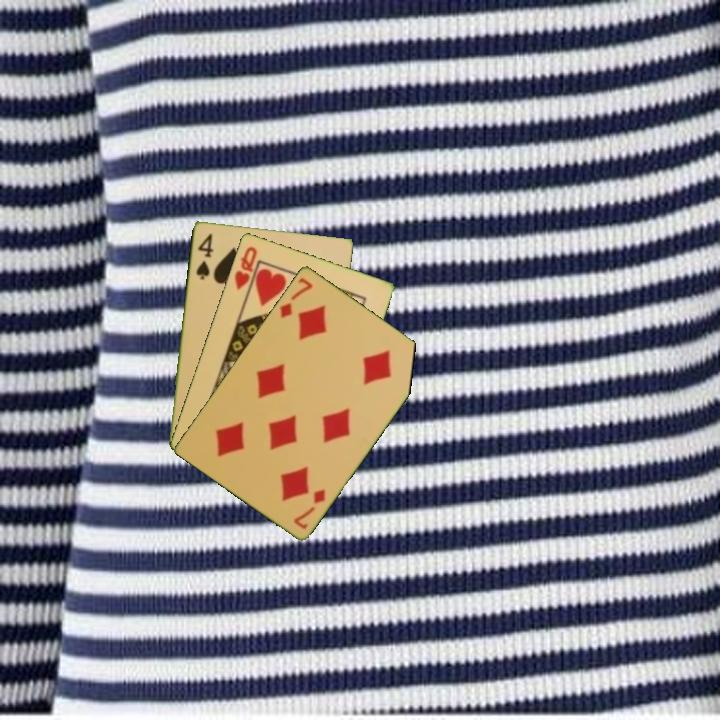4s: (192, 230, 216, 282)
7d: (276, 273, 316, 321), (290, 485, 328, 532)
Qh: (231, 243, 261, 298)
